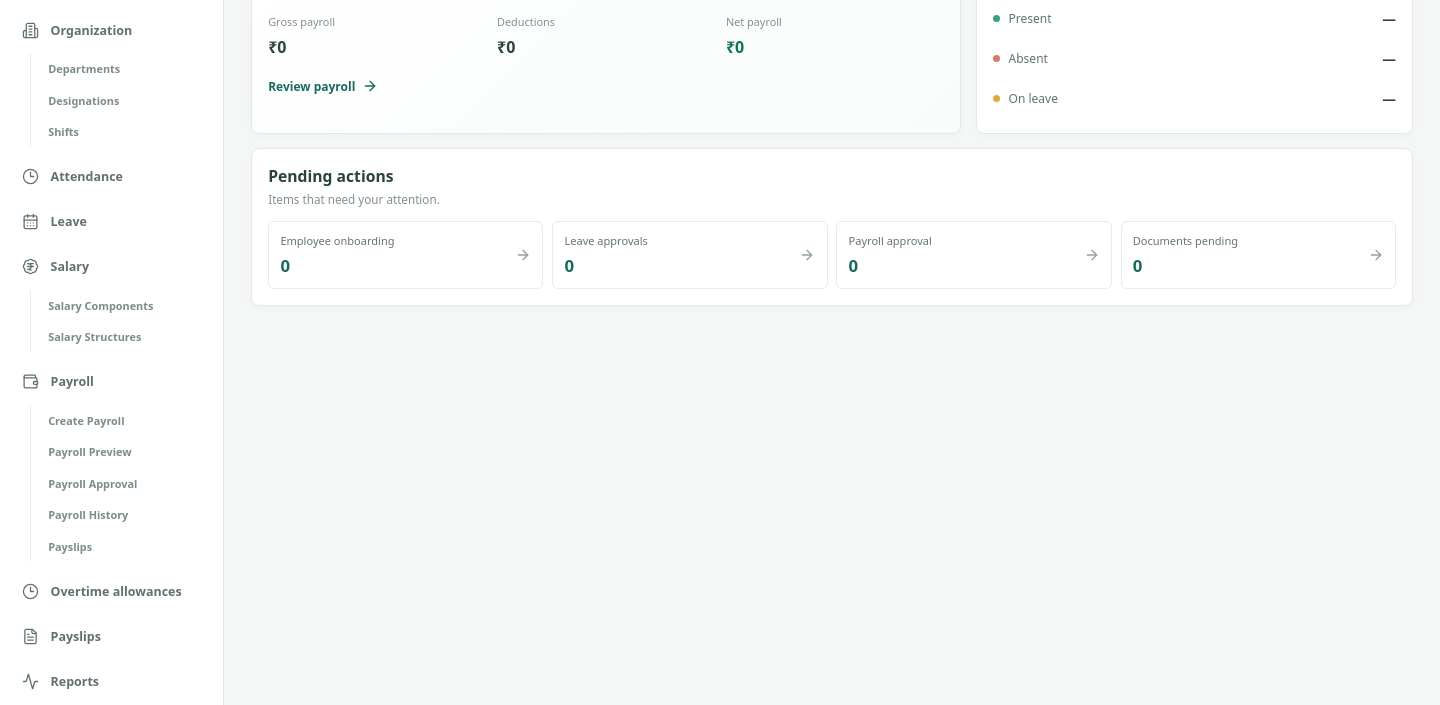
Test: PayrollPage › shows the server explanation when payroll calculation needs salary setup
(page scrolled)
Click the button "Payroll" at (58,382), box [12,361,104,403]
(page scrolled)
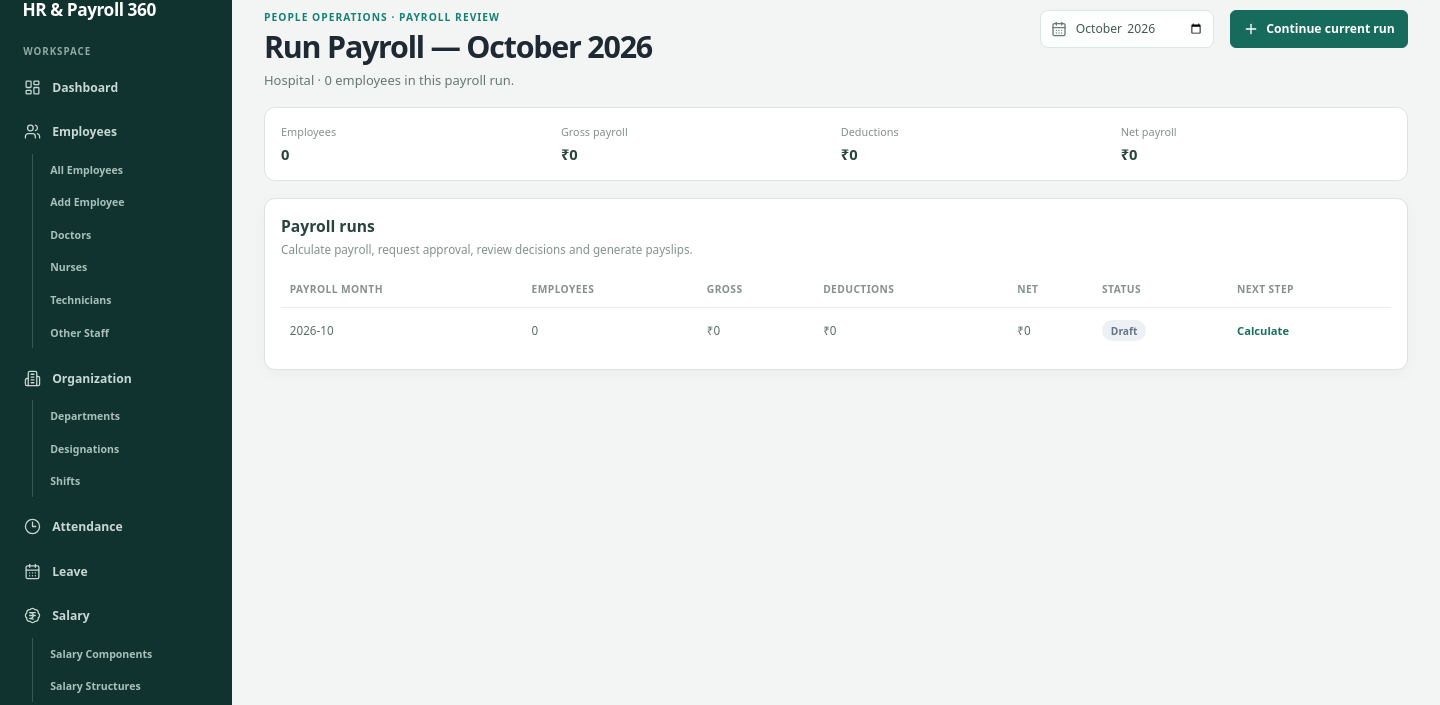
Click the button "Calculate" at (1263,331), box [1237,320,1289,341]
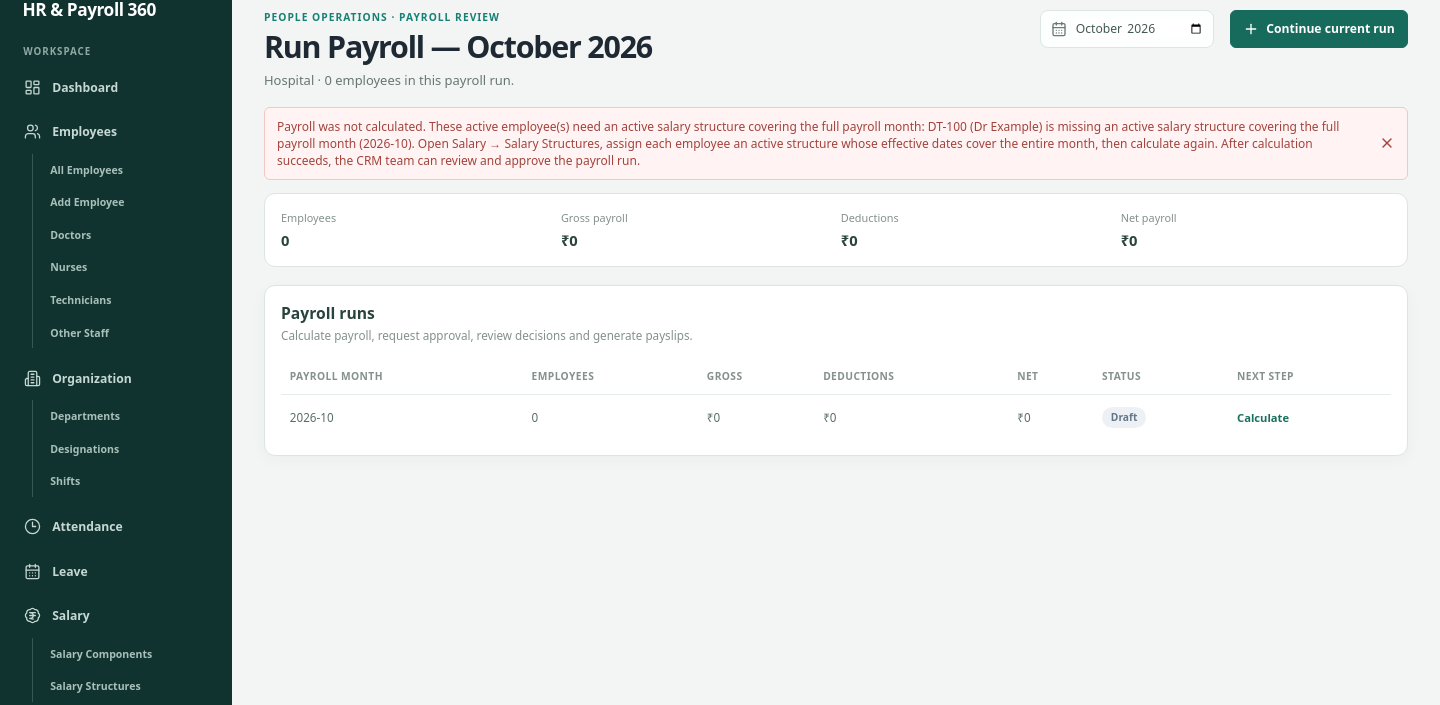
Expected: the message does not show "Unprocessable Entity", [264,106,1408,180]
Now the message shows "Payroll was not calculated. These active employee(s) need an active salary structure covering the full payroll month: DT-100 (Dr Example) is missing an active s", box [277,118,1339,169]
